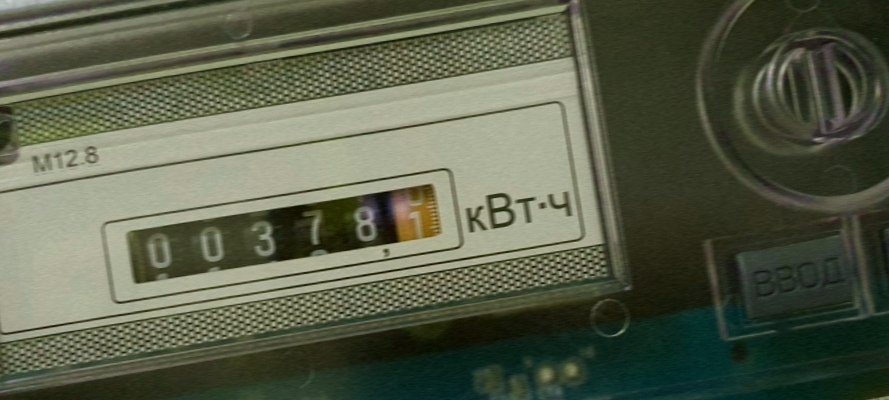0: (144, 227, 176, 271), (197, 222, 226, 264), (402, 184, 426, 208)
1: (404, 207, 427, 241)
3: (248, 216, 278, 260)
7: (299, 206, 327, 247)
8: (350, 202, 379, 244)
screen: (102, 163, 463, 296)
